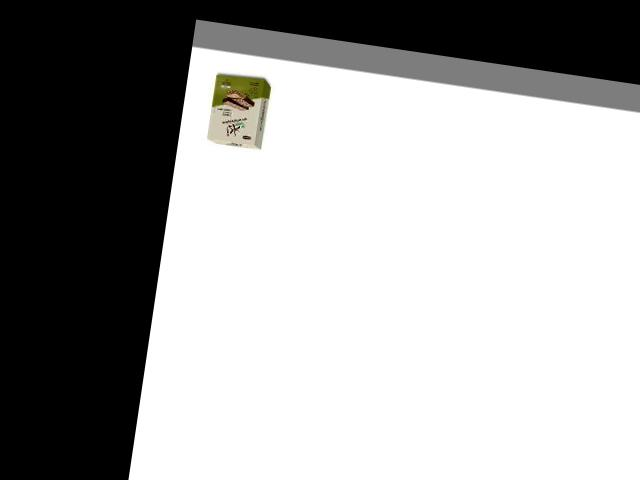chocolate: (200, 67, 276, 152)
